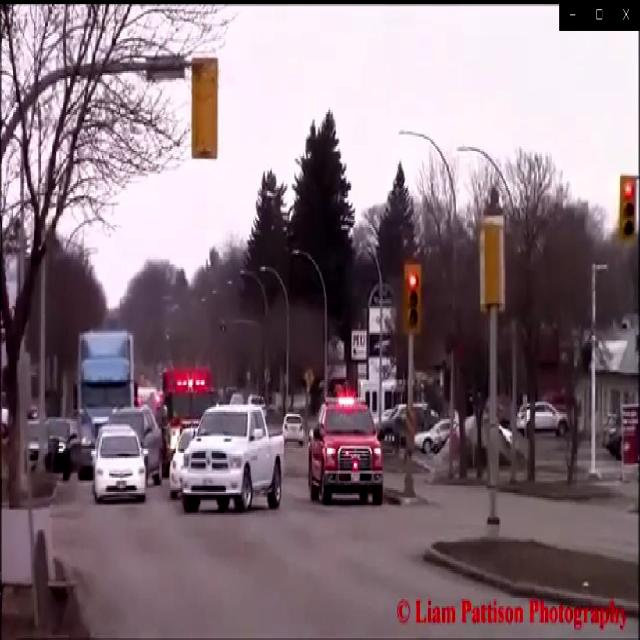emergency: (307, 389, 386, 514), (160, 362, 216, 486)
